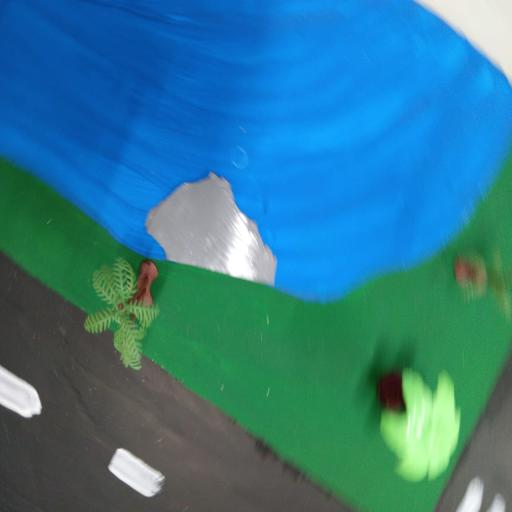encroachment: (135, 168, 296, 290)
